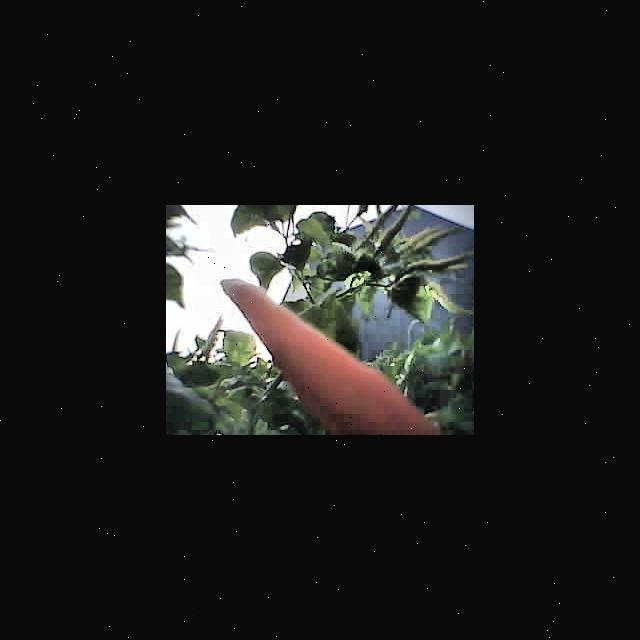Cabai: (225, 283, 429, 434)
